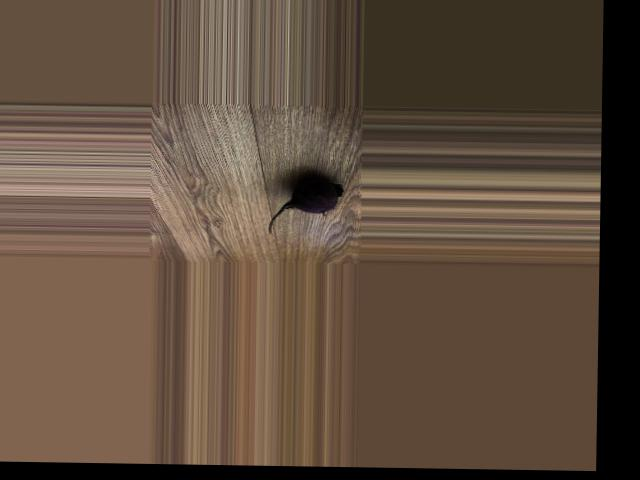beet: (266, 177, 341, 234)
